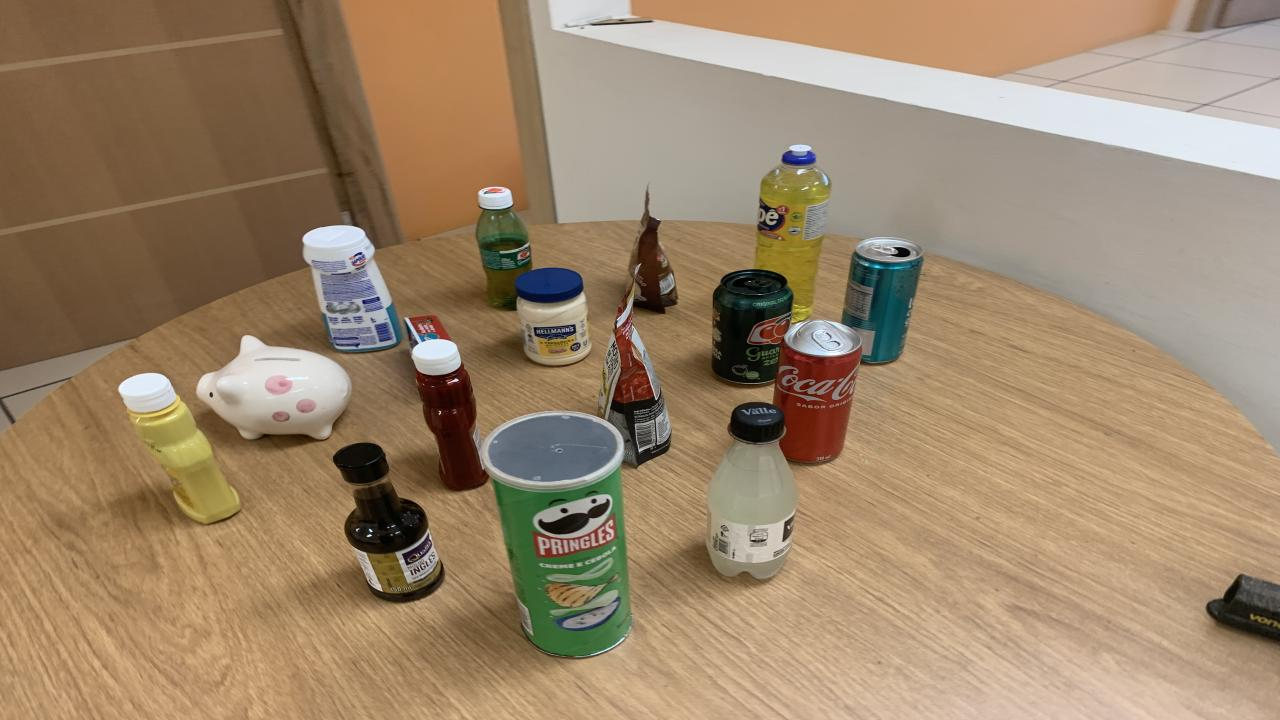Cleaner-Cleanup_Items: (302, 225, 400, 352)
Coffee-Pantry_Items: (630, 189, 678, 313)
Coke-Drinks: (772, 319, 862, 463)
Detergent-Cleanup_Items: (755, 144, 830, 322)
English_Sauce-Pantry_Items: (332, 442, 445, 602)
Guarana-Drinks: (475, 188, 532, 309)
Guarana_Can-Drinks: (712, 270, 792, 384)
Ketchup-Pantry_Items: (412, 338, 488, 489)
Mayonnaise-Pantry_Items: (515, 268, 592, 366)
Mustard-Pantry_Items: (120, 373, 240, 523)
Pig_Safe-Miscellaneous: (198, 336, 352, 439)
Pringles-Snacks: (480, 411, 632, 656)
Soda-Drinks: (708, 401, 798, 579)
Tea-Drinks: (842, 236, 922, 364)
Tomato_Sauce-Pantry_Items: (600, 291, 672, 467)
Tuna_Can-Pantry_Items: (405, 315, 450, 351)
